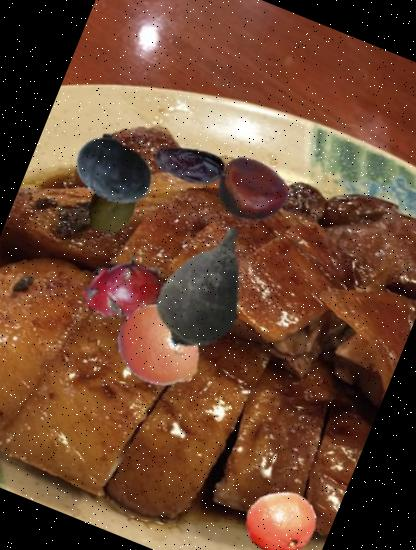Beetroot: (110, 198, 296, 384)
Blueberry: (60, 120, 164, 224)
Chestnut: (207, 146, 299, 238)
Clementine: (231, 475, 327, 550)
Dates: (143, 120, 233, 210)
Papaya: (74, 169, 150, 245)
Pitahaya: (70, 228, 186, 344)
Tangelo: (102, 290, 218, 406)
